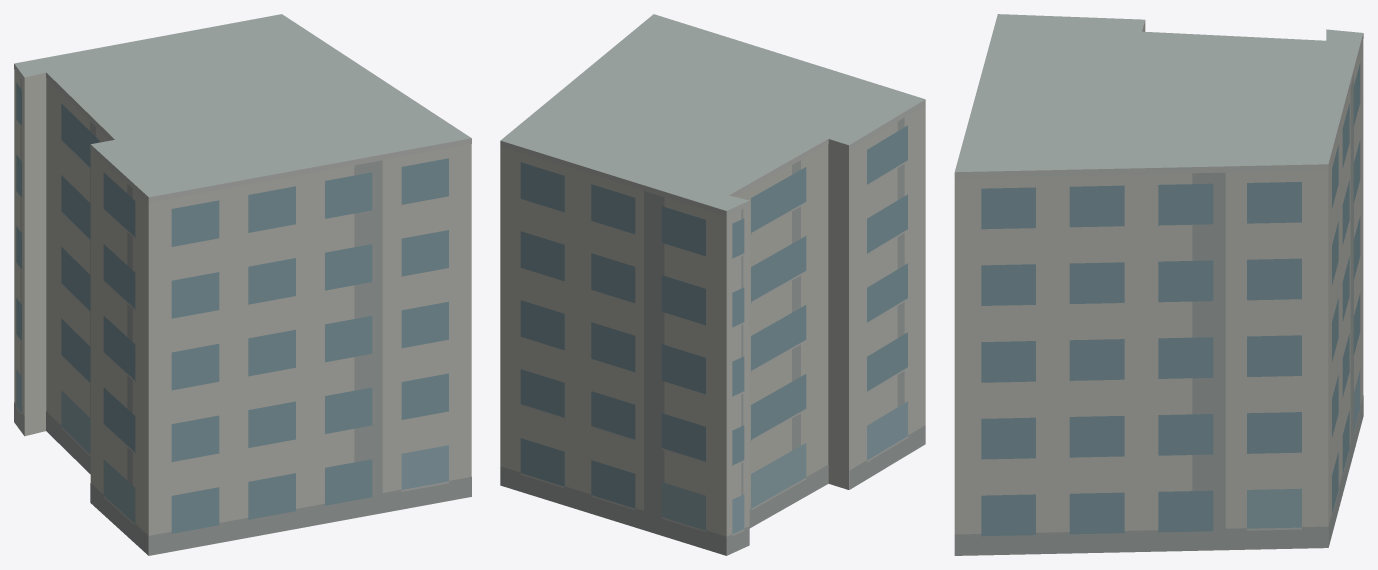
The model's file is survey-upis-32968095.glb.
The picture shows the model from 3 angles, left to right: view 1: azimuth 30°, elevation 25°; view 2: azimuth 150°, elevation 25°; view 3: azimuth 270°, elevation 25°; orthographic projection. The views are drawn at different scales.
Visible parts, largest first — view 1: survey-upis-32968095.tmp; view 2: survey-upis-32968095.tmp; view 3: survey-upis-32968095.tmp.
Boxes of the visible parts, x1=… form: survey-upis-32968095.tmp: x1=14, y1=14, x2=471, y2=555; survey-upis-32968095.tmp: x1=500, y1=14, x2=925, y2=555; survey-upis-32968095.tmp: x1=954, y1=14, x2=1363, y2=555.
Bounding box in the file's own units: 13.49 × 15.25 × 14.73.
